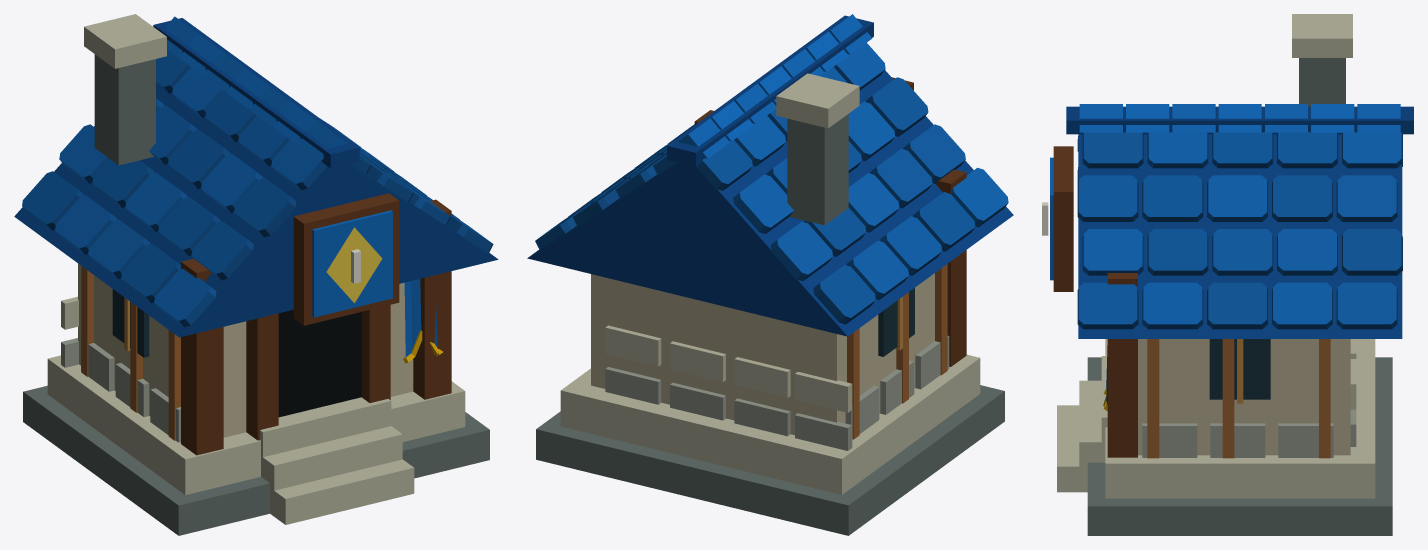
The model's file is barracks.fbx.
3 renders of one model, left to right at view 1: azimuth 30°, elevation 25°; view 2: azimuth 150°, elevation 25°; view 3: azimuth 270°, elevation 25°, orthographic. The views are drawn at different scales.
Parts seen in each view (by area): view 1: barracks; view 2: barracks; view 3: barracks.
Part boxes in pixels (box(x1,y1,x2,y2)): barracks: box(14, 14, 498, 535); barracks: box(527, 14, 1013, 535); barracks: box(1042, 14, 1413, 535).
Bounding box in the file's own units: 1.54 × 1.84 × 1.58.
